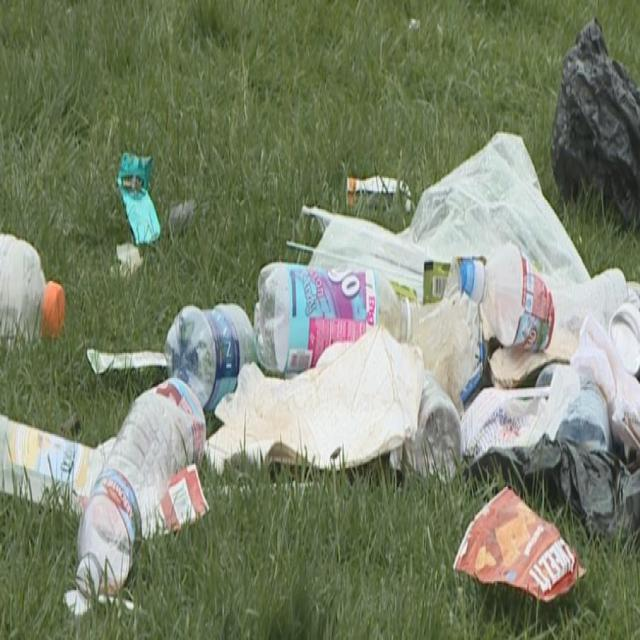plastic: (74, 374, 205, 614), (253, 259, 418, 381), (550, 17, 640, 240), (460, 241, 630, 354), (453, 484, 588, 607), (163, 300, 256, 414), (0, 223, 67, 349)
